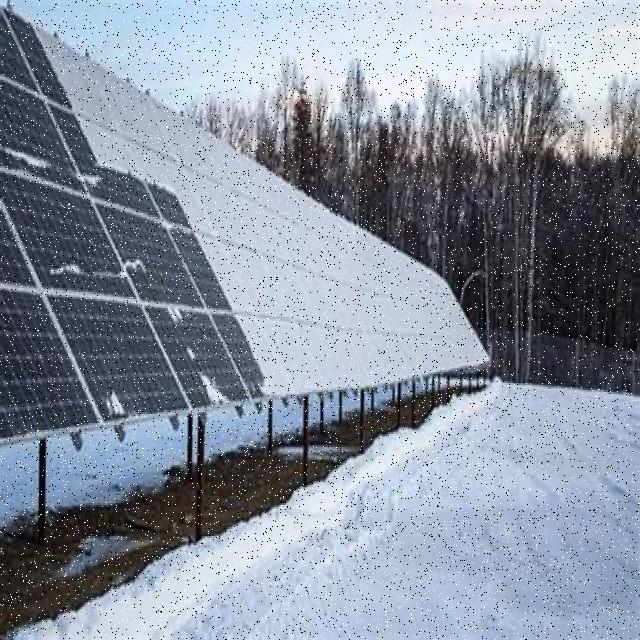snow covered: (40, 29, 487, 391)
